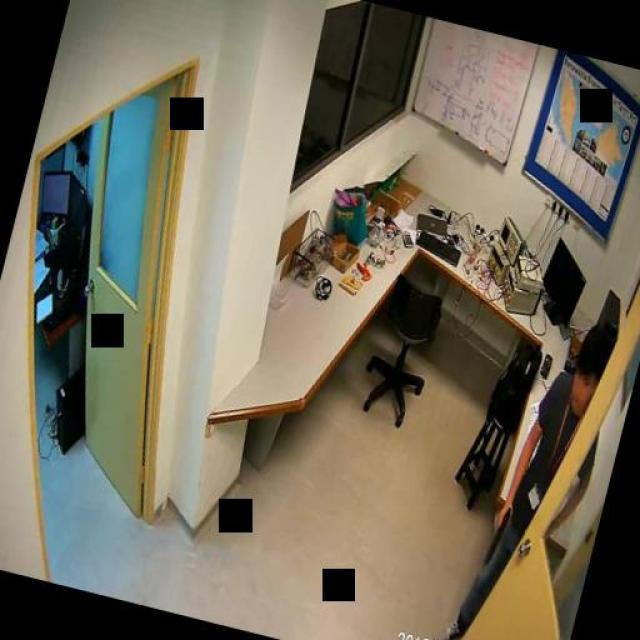gun: (482, 504, 512, 565)
